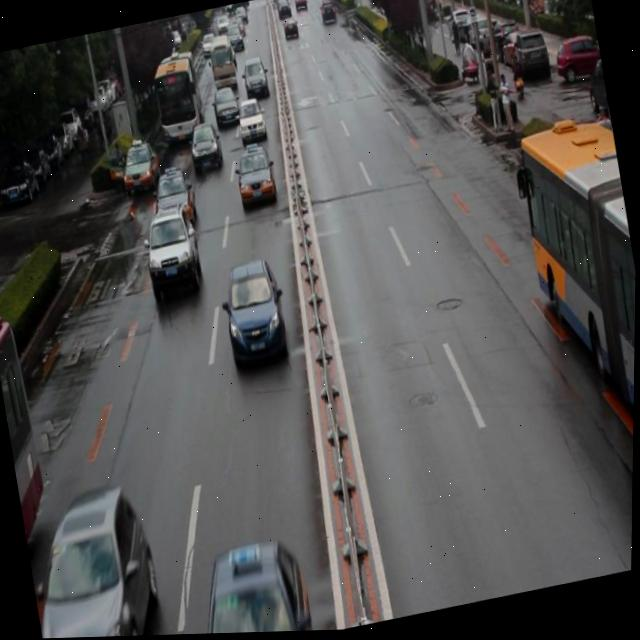car: (21, 486, 171, 639), (186, 535, 317, 636), (216, 258, 294, 368), (138, 207, 206, 300), (147, 165, 200, 233), (231, 144, 277, 210), (119, 137, 165, 197), (184, 122, 222, 174), (210, 84, 241, 130), (234, 98, 265, 144)
van: (501, 106, 639, 485), (0, 309, 69, 611), (148, 47, 208, 148)
